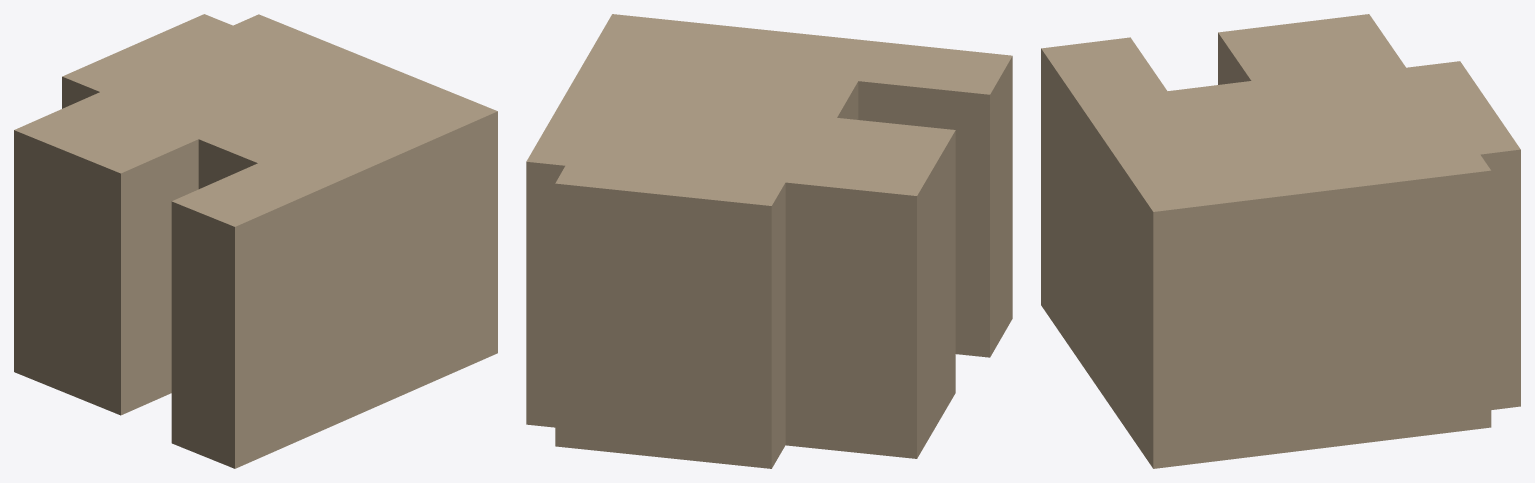
Rendered from bld_99872249.dae.
The picture shows the model from 3 angles, left to right: view 1: azimuth 30°, elevation 25°; view 2: azimuth 150°, elevation 25°; view 3: azimuth 270°, elevation 25°; orthographic projection. The views are drawn at different scales.
Parts seen in each view (by area): view 1: bld_99872249; view 2: bld_99872249; view 3: bld_99872249.
Part boxes in pixels (x1,y1,x2,y2): bld_99872249: (14,14,497,468); bld_99872249: (526,14,1012,468); bld_99872249: (1041,14,1520,468).
Size of the model in its own units: 13.22 by 13.54 by 8.
